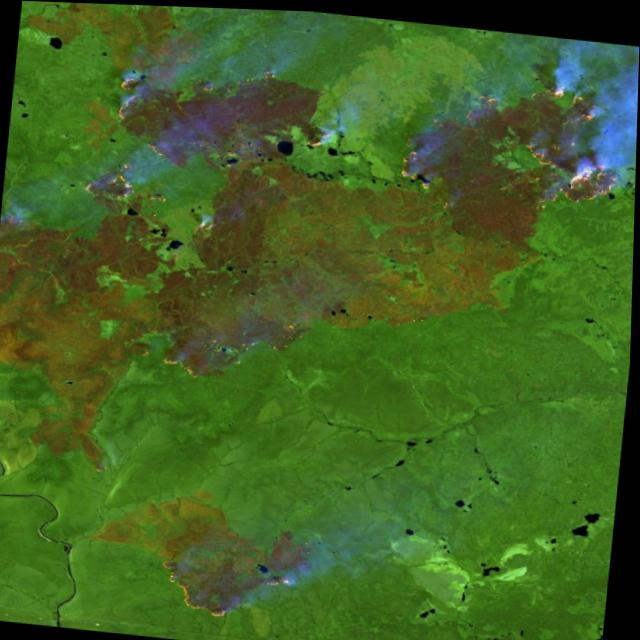fire: (391, 58, 636, 215), (70, 66, 192, 213), (150, 545, 315, 633), (286, 109, 340, 159)
